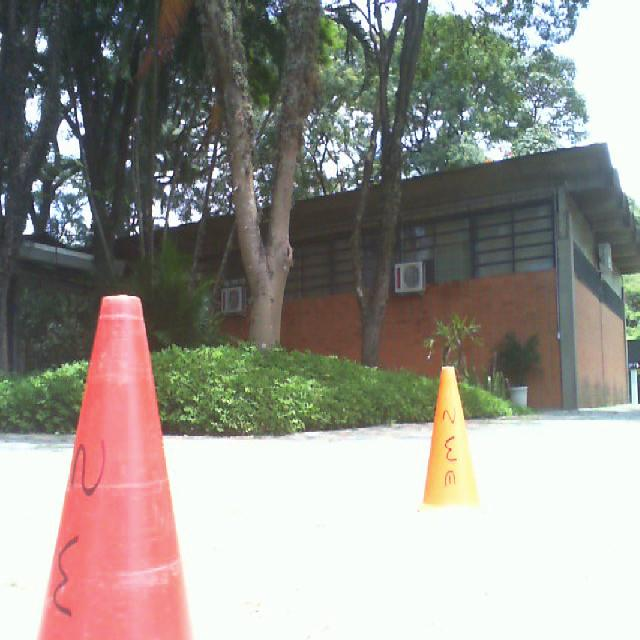cone: (38, 296, 196, 640), (421, 367, 480, 513)
